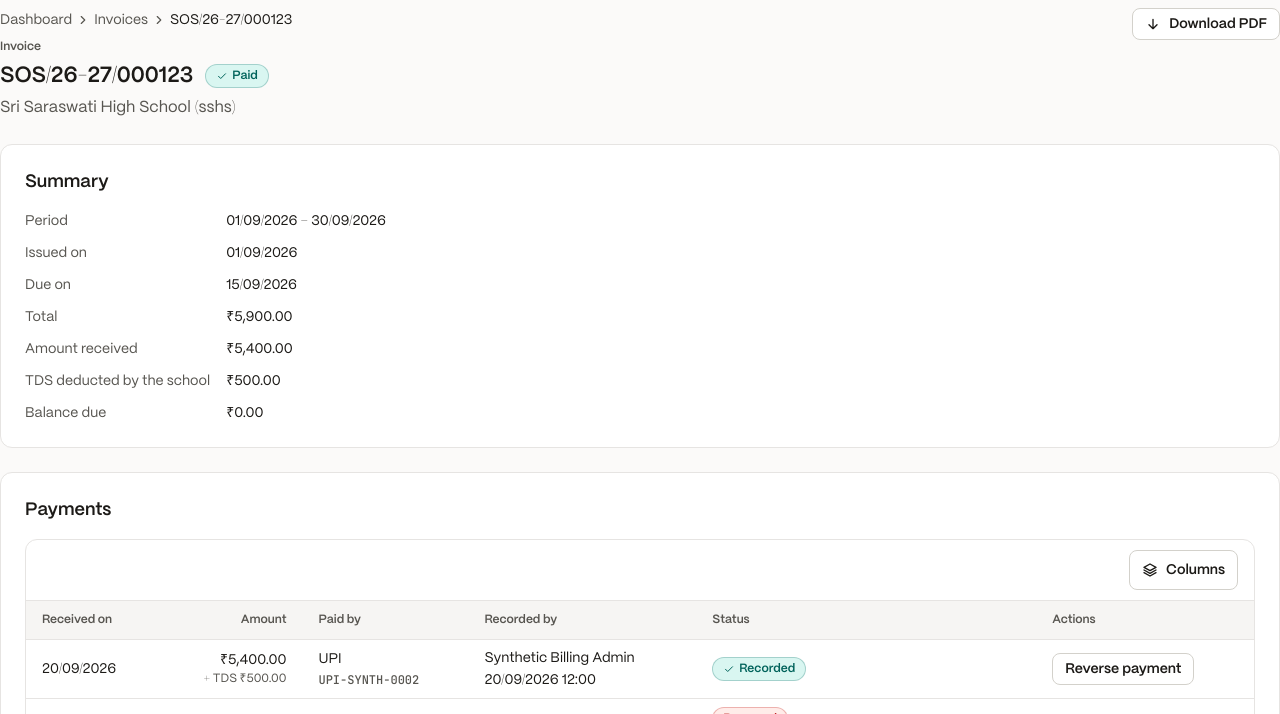
invoice payments (FR-PLT-018, docs/16 §5.9) › 404: the payment is gone, says so and reloads
Check: the text "UPI-SYNTH-0002" is shown, box x1=318 y1=672 x2=419 y2=688
Click the button "Reverse payment" at (1123, 669), box x1=1052 y1=653 x2=1194 y2=685
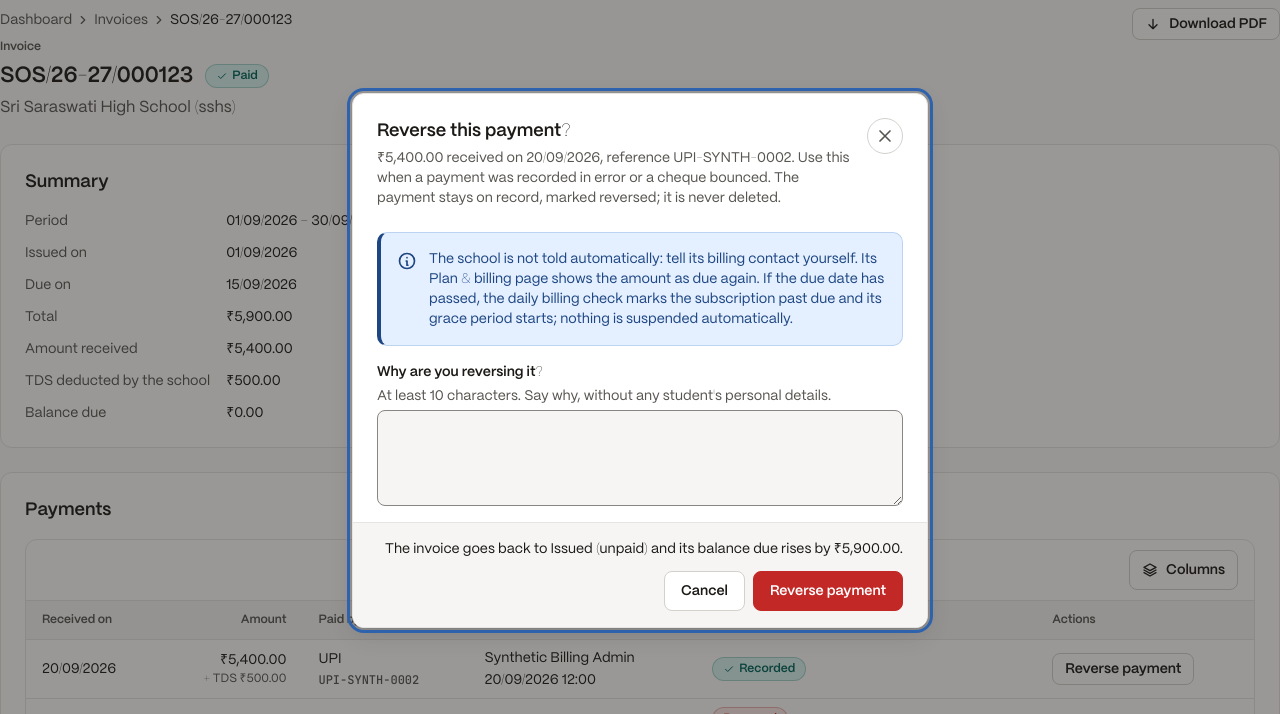
Type "Recorded against the wrong invoice" into the text box labelled "Why are you reversing it?" at (640, 458), box x1=377 y1=410 x2=903 y2=506
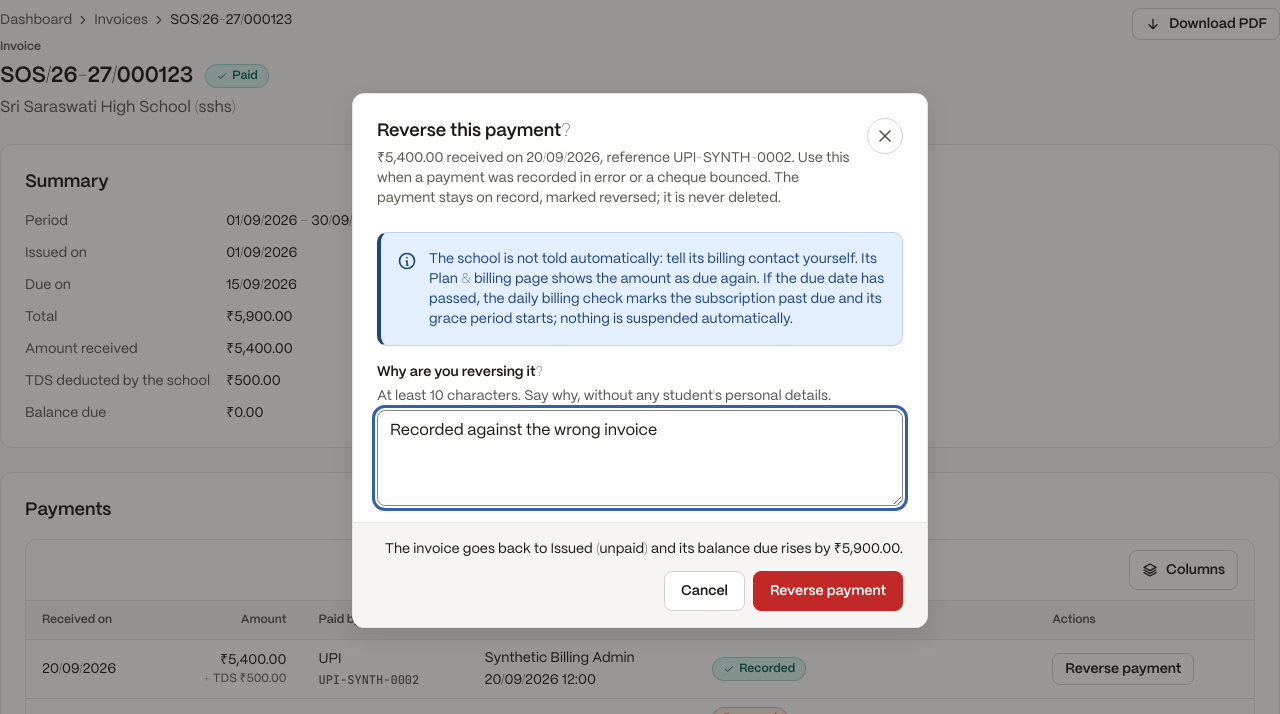
Click the button "Reverse payment" below "Why are you reversing it?" at (828, 590), box x1=753 y1=570 x2=903 y2=610
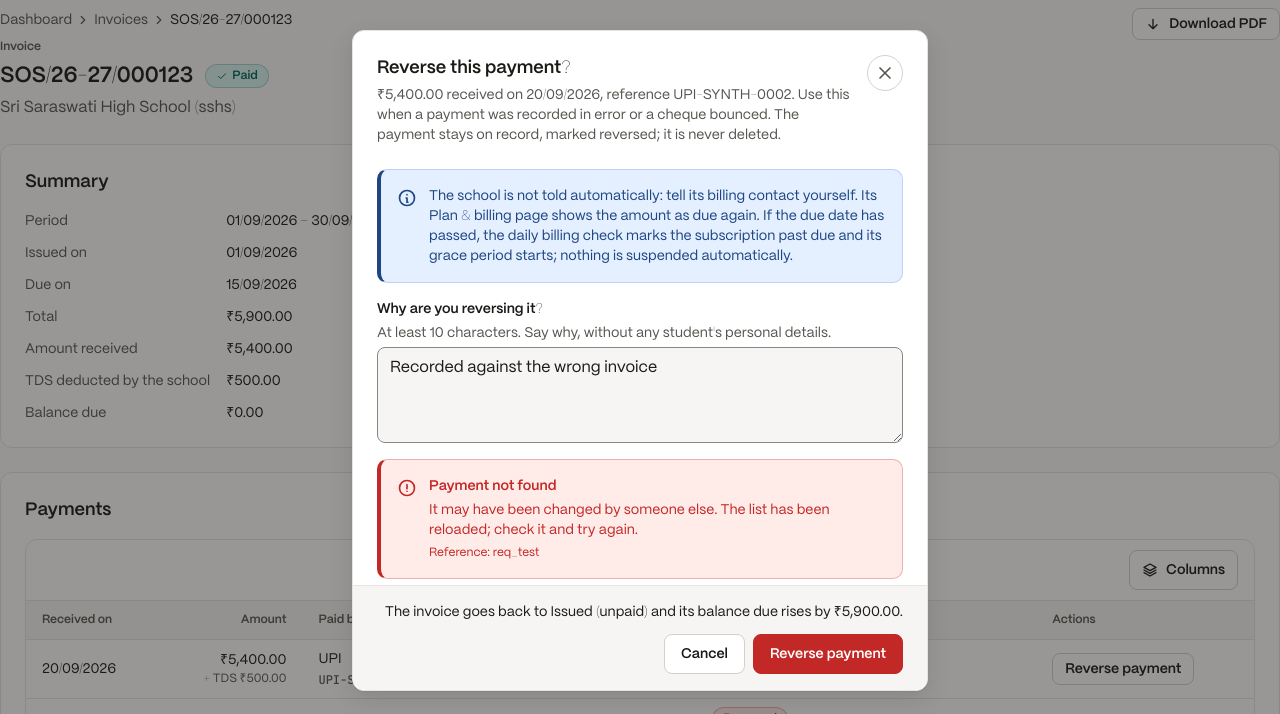
Check: the text "Payment not found" is shown, box x1=429 y1=478 x2=556 y2=492
